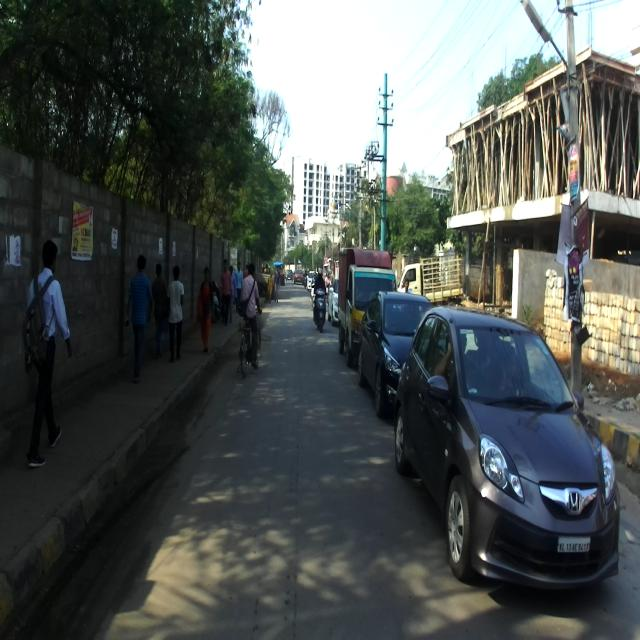bicycle ahead at: (238, 258, 267, 380)
car ahead at: (399, 303, 626, 603)
electric pole ahead at: (552, 0, 603, 410)
person ahead at: (20, 238, 76, 474)
